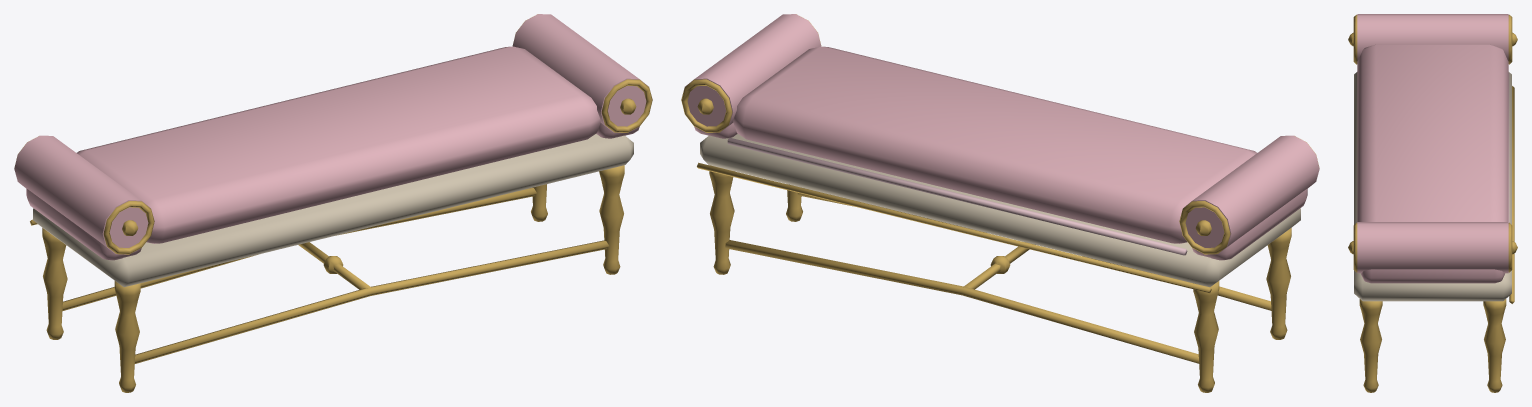
File: hall_bench_cushioned.glb
The picture shows the model from 3 angles, left to right: view 1: azimuth 30°, elevation 25°; view 2: azimuth 150°, elevation 25°; view 3: azimuth 270°, elevation 25°; orthographic projection. The views are drawn at different scales.
Parts seen in each view (by area): view 1: hall_bench_cushioned; view 2: hall_bench_cushioned; view 3: hall_bench_cushioned.
Part boxes in pixels (bbox=[...]): hall_bench_cushioned: bbox=[14, 14, 652, 392]; hall_bench_cushioned: bbox=[681, 14, 1319, 392]; hall_bench_cushioned: bbox=[1348, 14, 1517, 392].
Size of what is drawn, in the model's own units: 1.6 by 0.55 by 0.5.
